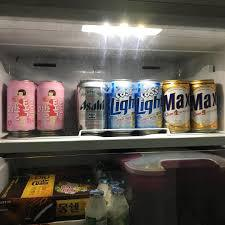beer: (76, 79, 220, 135)
